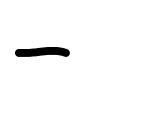minus: (15, 47, 70, 57)
